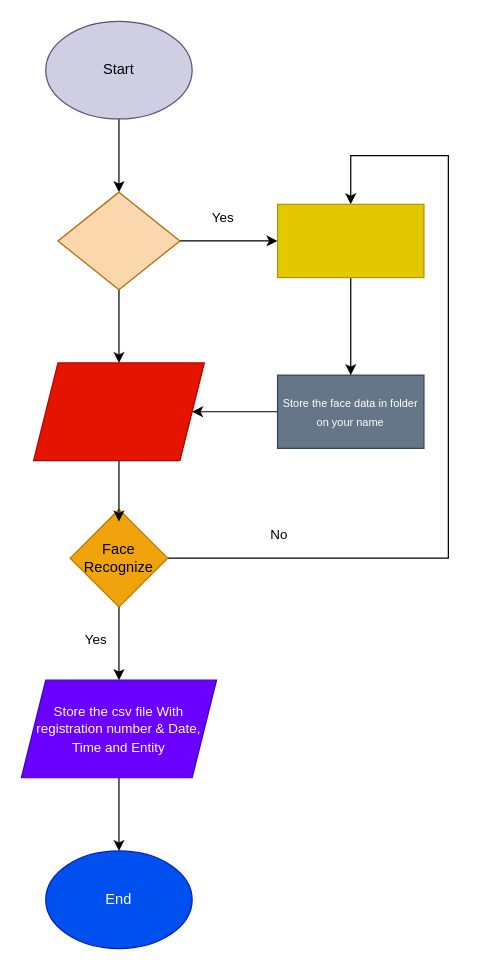
Image size: 479x970. Some labels were removed from this diagram. Here are the shapes that lost their labels. From the top down, the centre of each, then its label:
At [118,240]: "New user run create_dataset".
At [350,240]: "Give Your Photograph".
At [118,411]: "Recognize The Face run face_recognize.py".
